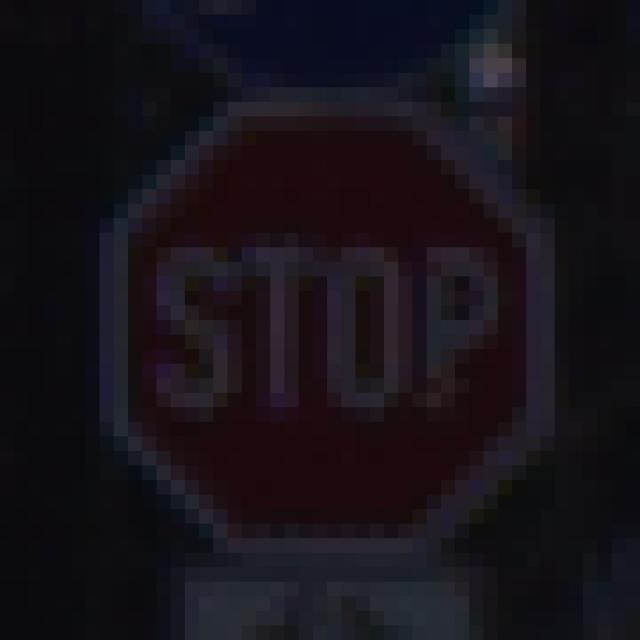STOP: (86, 74, 570, 568)
